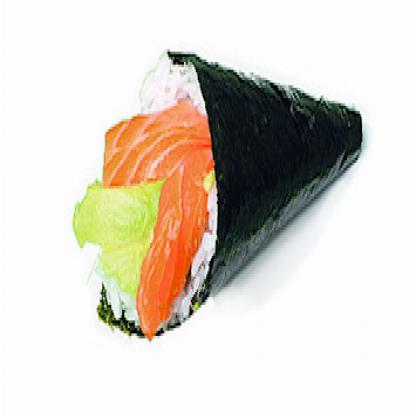sake_hand_roll: (59, 49, 373, 362)
